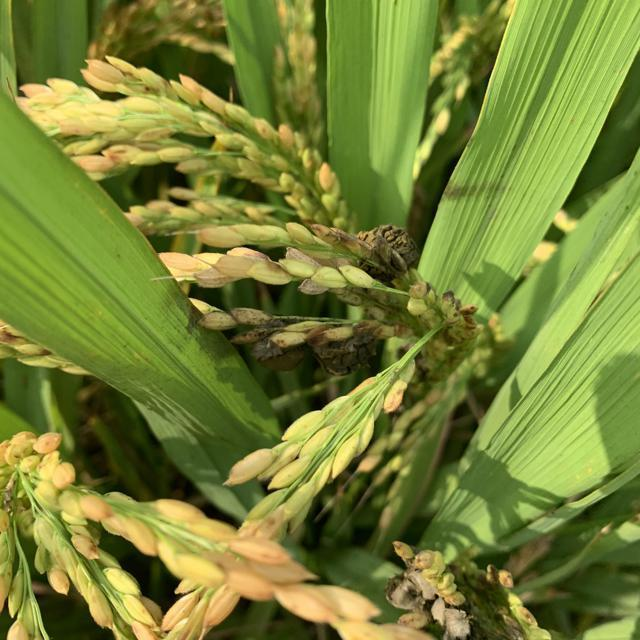Leaf_Scald: (244, 317, 380, 378), (383, 562, 473, 636), (344, 223, 426, 289)
